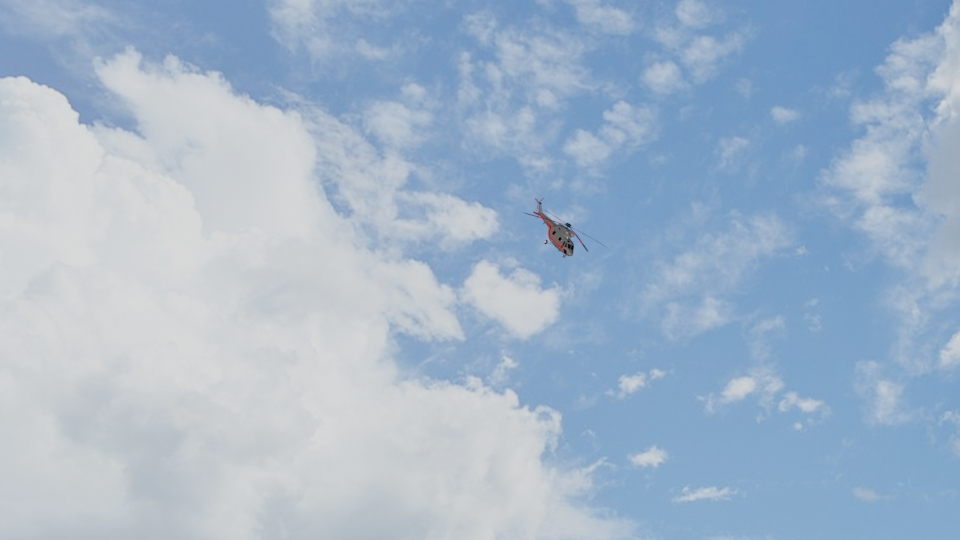heli: (529, 194, 589, 257)
